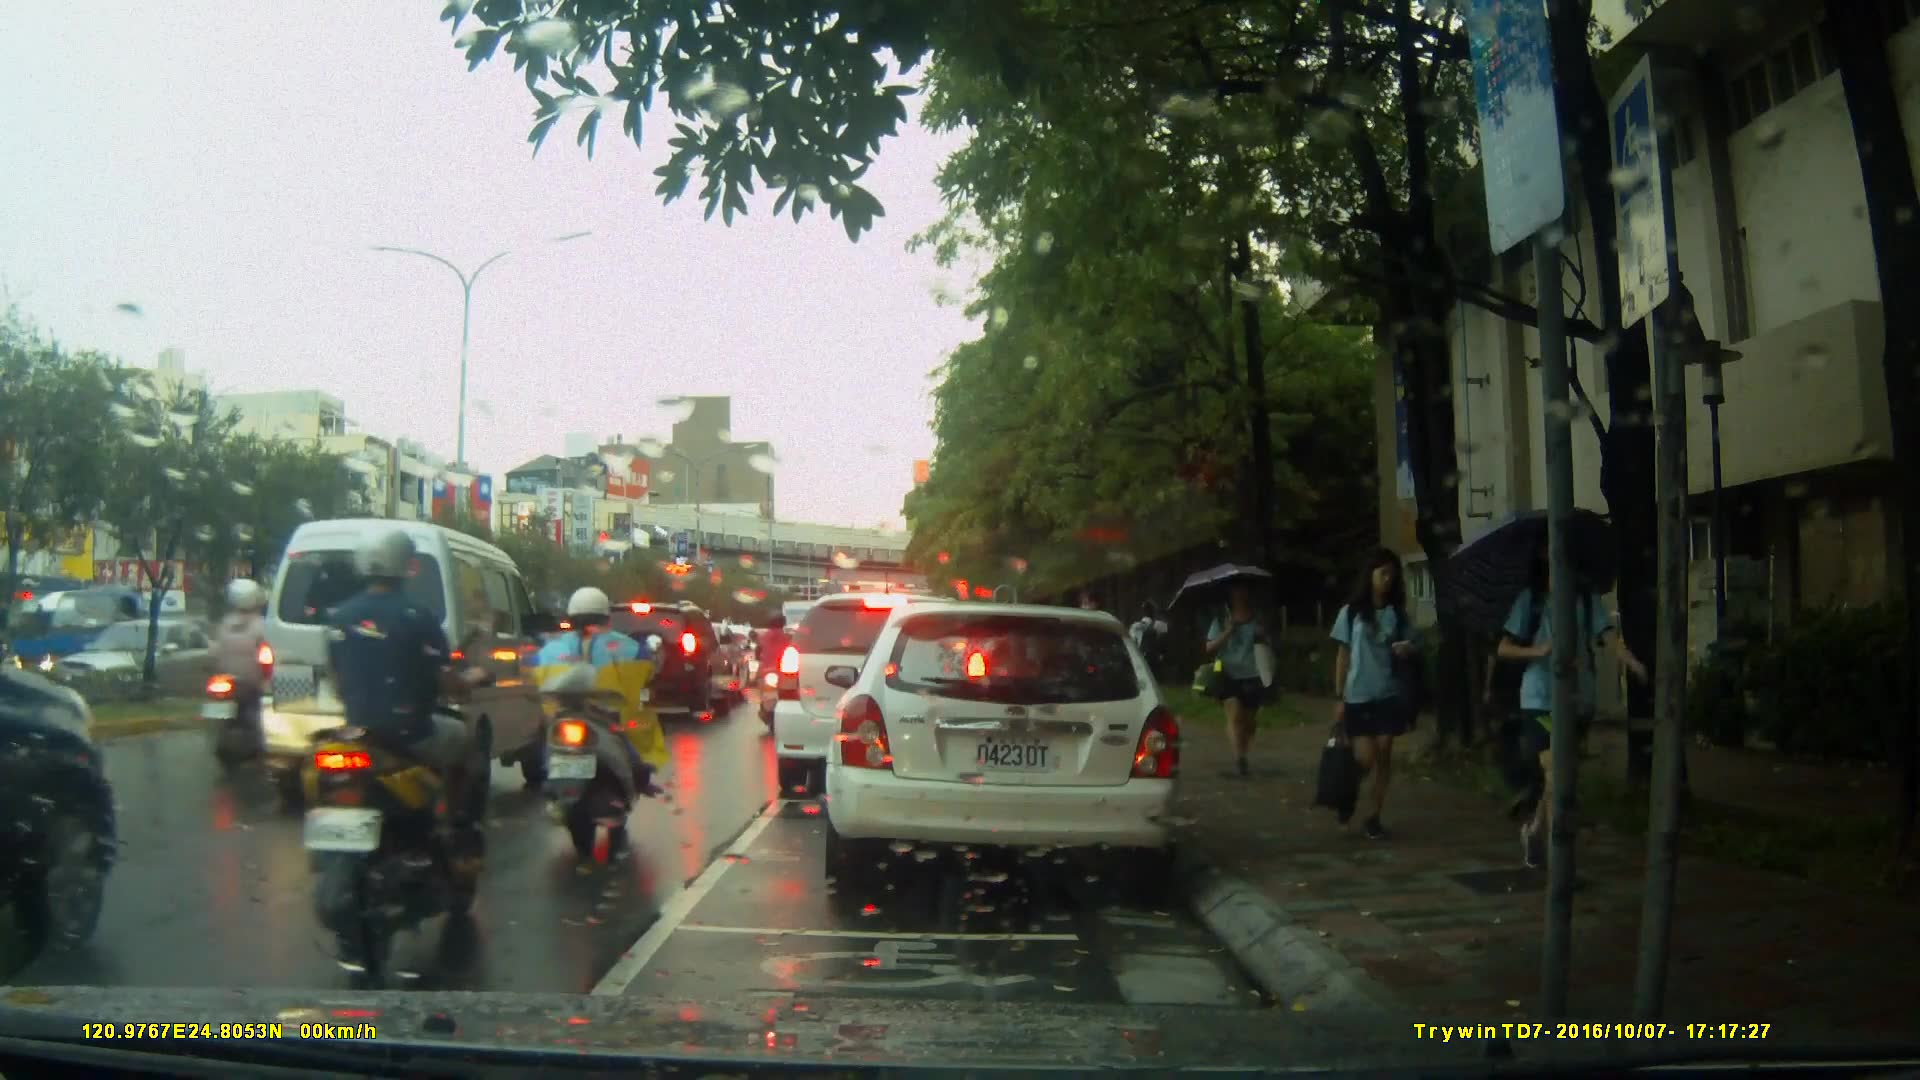pedestrian: (1480, 518, 1629, 898), (1319, 549, 1423, 858), (1487, 539, 1592, 842), (1190, 574, 1272, 787)
rider: (294, 518, 494, 959), (534, 588, 668, 855), (206, 576, 308, 768), (749, 606, 799, 729)
vehicle: (815, 593, 1204, 909), (248, 516, 549, 817), (770, 590, 994, 802), (578, 603, 737, 725), (1, 584, 150, 686)
